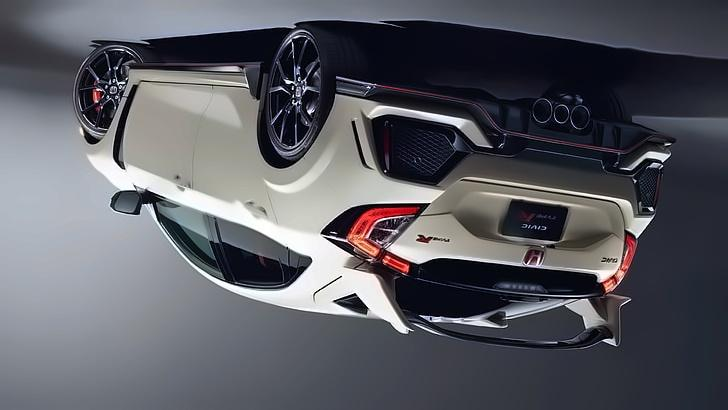Car boot: (379, 177, 627, 302)
Driver-s door - -F-R-: (121, 57, 228, 305)
Fender - -F-R-: (79, 95, 136, 199)
Fender - -R-R-: (254, 88, 383, 272)
Passenger-s door - -R-R-: (171, 54, 298, 306)
Rear bumper: (319, 74, 678, 239)
Rear light - -L-: (597, 231, 642, 294)
Rear light - -R-: (319, 201, 431, 282)
Side bumper - -R-: (123, 59, 264, 123)
Side mirror - -R-: (109, 189, 159, 216)
